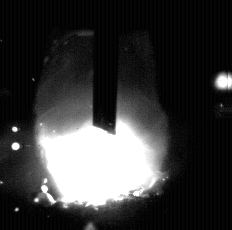arame: (93, 0, 117, 135)
poca: (35, 0, 169, 230)
